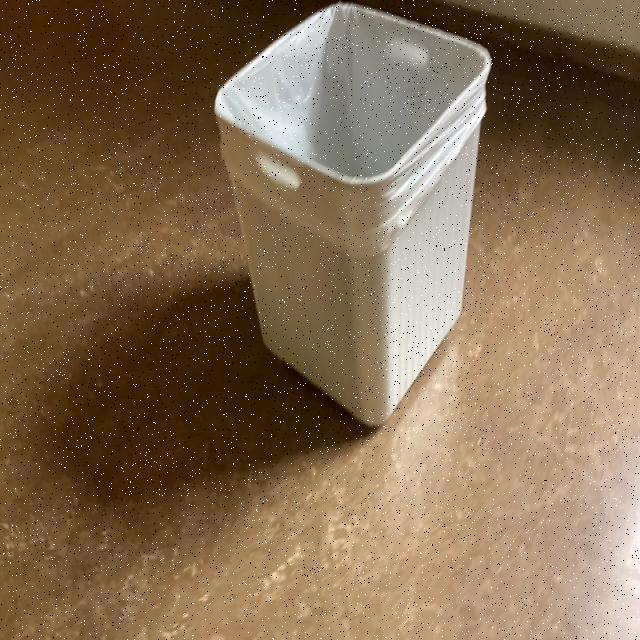garbage container: (201, 1, 514, 444)
